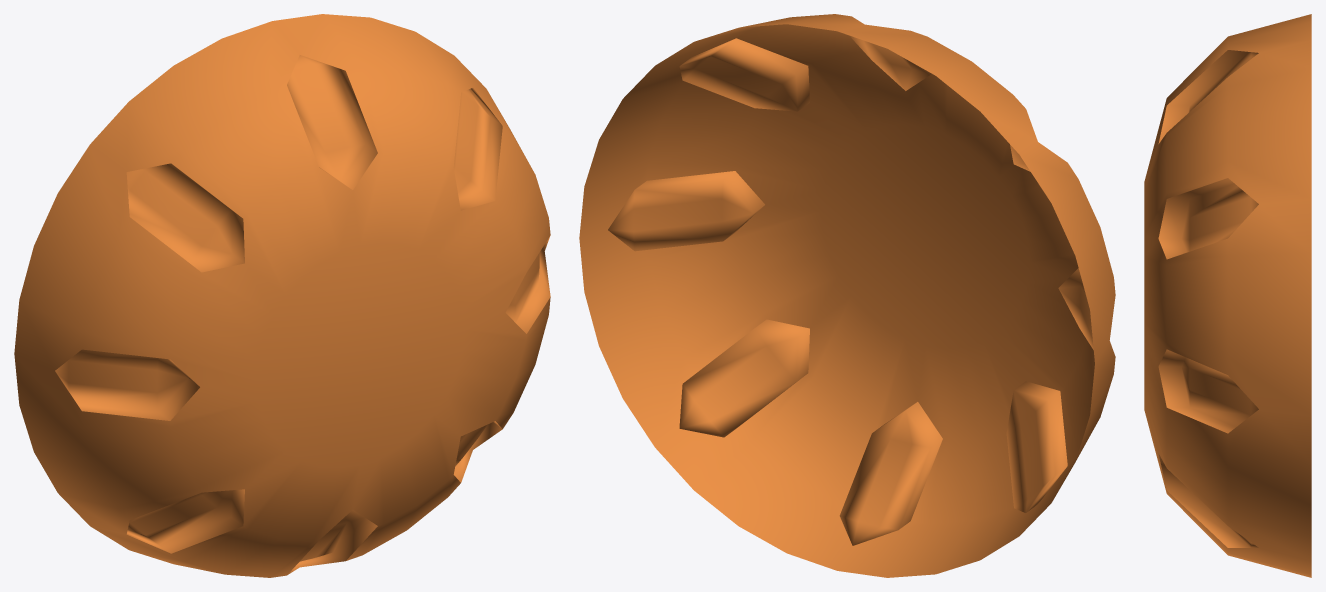
The model's file is fbx_CONSTALLATIONDOOR_LOCK_03.fbx.
3 renders of one model, left to right at view 1: azimuth 30°, elevation 25°; view 2: azimuth 150°, elevation 25°; view 3: azimuth 270°, elevation 25°, orthographic. The views are drawn at different scales.
Parts seen in each view (by area): view 1: Cylinder.024; view 2: Cylinder.024; view 3: Cylinder.024.
Part boxes in pixels (left/top/right/bottom): Cylinder.024: left=14, top=14, right=550, bottom=577; Cylinder.024: left=579, top=14, right=1115, bottom=577; Cylinder.024: left=1144, top=14, right=1311, bottom=577.
Size of the model in its own units: 28.02 by 28.02 by 8.3.
